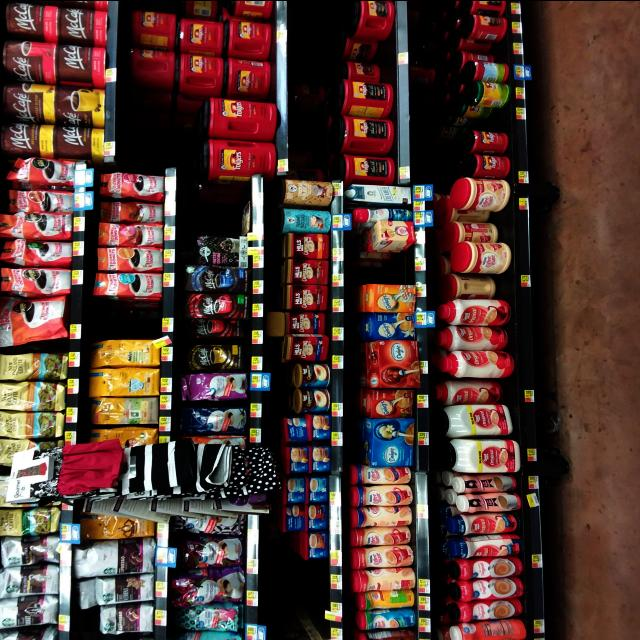empty_space: (263, 560, 325, 613), (88, 308, 164, 338), (178, 200, 246, 230), (471, 112, 509, 128)
